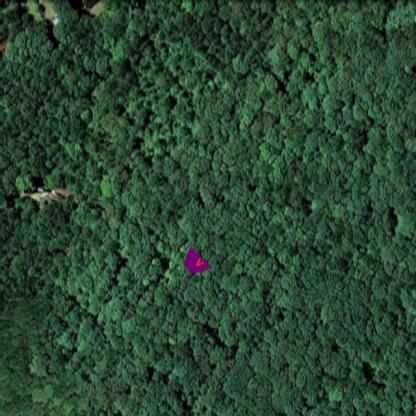V: (194, 255, 207, 270)
trapezium: (181, 244, 212, 279)
